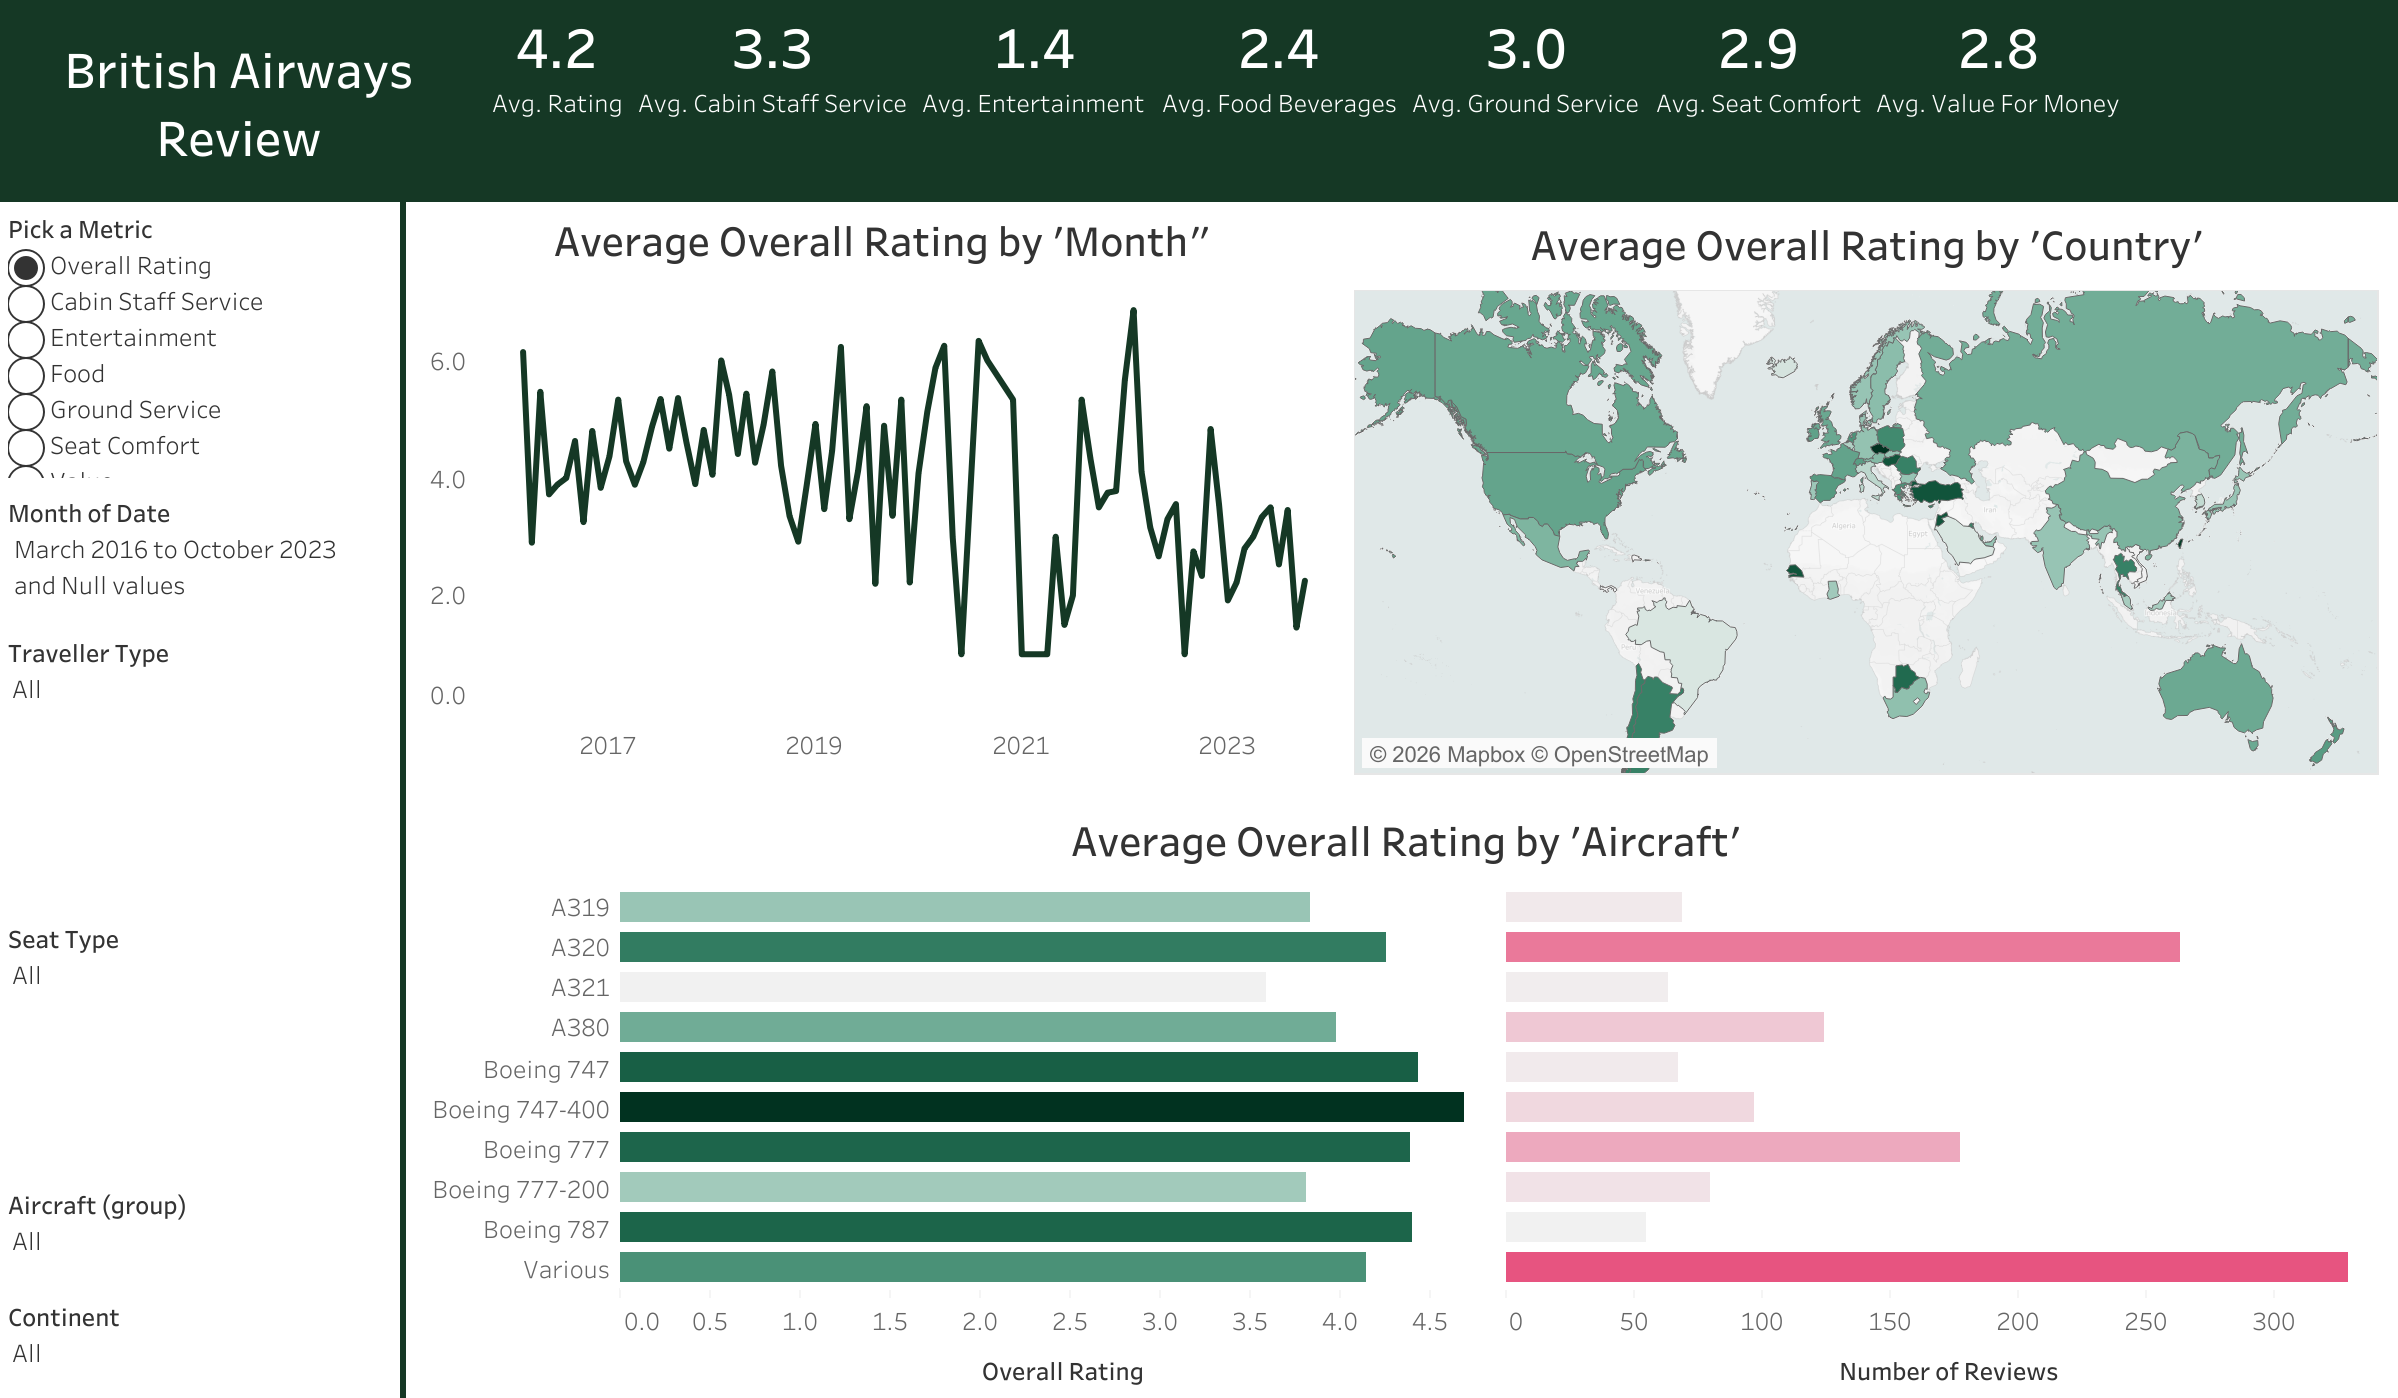

The page's visual inventory and layout, read from the dashboard file:
{"tool":"tableau","page":{"name":"Dashboard","canvas":[1200,700],"ordinal":0},"visuals":[{"type":"text","box":[0,0,239,101]},{"type":"worksheet","title":"Summary","mark":"Automatic","box":[238,0,963,101]},{"type":"parameter","param":"[Parameters].[Parameter 1]","box":[0,100,200,154]},{"type":"worksheet","title":"Month","mark":"Automatic","rows":["Calculation_1102719232790528"],"cols":["date"],"box":[210,100,463,286]},{"type":"blank","box":[200,101,3,600]},{"type":"worksheet","title":"Map","mark":"Automatic","box":[677,102,513,286]},{"type":"filter","title":"Map","param":"[federated.09cn5921u259lz117hw2p05nfp84].[tmn:date:qk]","box":[0,254,200,69]},{"type":"filter","title":"Map","param":"[federated.09cn5921u259lz117hw2p05nfp84].[none:traveller_type:nk]","box":[0,323,200,146]},{"type":"worksheet","title":"Aircraft","mark":"Automatic","cols":["Calculation_1102719232790528","ba_reviews.csv_C75201F2EA384756ABF6A7619E45996C"],"box":[210,400,986,301]},{"type":"filter","title":"Map","param":"[federated.09cn5921u259lz117hw2p05nfp84].[none:seat_type:nk]","box":[0,469,200,127]},{"type":"filter","title":"Map","param":"[federated.09cn5921u259lz117hw2p05nfp84].[Aircraft (group)]","box":[0,596,200,52]},{"type":"filter","title":"Map","param":"[federated.09cn5921u259lz117hw2p05nfp84].[none:Continent:nk]","box":[0,648,200,52]}]}

Visuals, with their boxes in screenshot pixels (x1, y1, x2, y2), scaled from the page's 1200x700 canvas onto the 2398x1398 screenshot:
text: crop(0, 0, 478, 202)
"Summary" worksheet: crop(476, 0, 2397, 202)
parameter: crop(0, 200, 400, 507)
"Month" worksheet: crop(420, 200, 1345, 771)
blank: crop(400, 202, 406, 1397)
"Map" worksheet: crop(1353, 204, 2378, 775)
"Map" filter: crop(0, 507, 400, 645)
"Map" filter: crop(0, 645, 400, 937)
"Aircraft" worksheet: crop(420, 799, 2390, 1397)
"Map" filter: crop(0, 937, 400, 1190)
"Map" filter: crop(0, 1190, 400, 1294)
"Map" filter: crop(0, 1294, 400, 1397)
